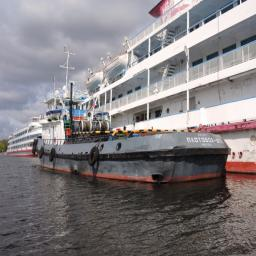tugboat: (33, 81, 234, 190)
